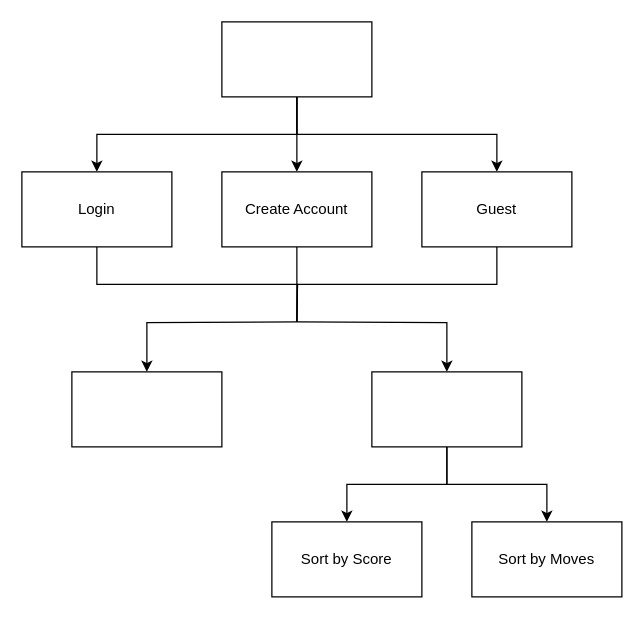
Image size: 644x619. Some labels were removed from this diagram. The box of each missing label's shape, as (x1, y1, x2, y2) in pixels:
Leaderboard: (371, 371, 522, 447)
Space: (221, 21, 372, 97)
Start: (71, 371, 222, 447)
